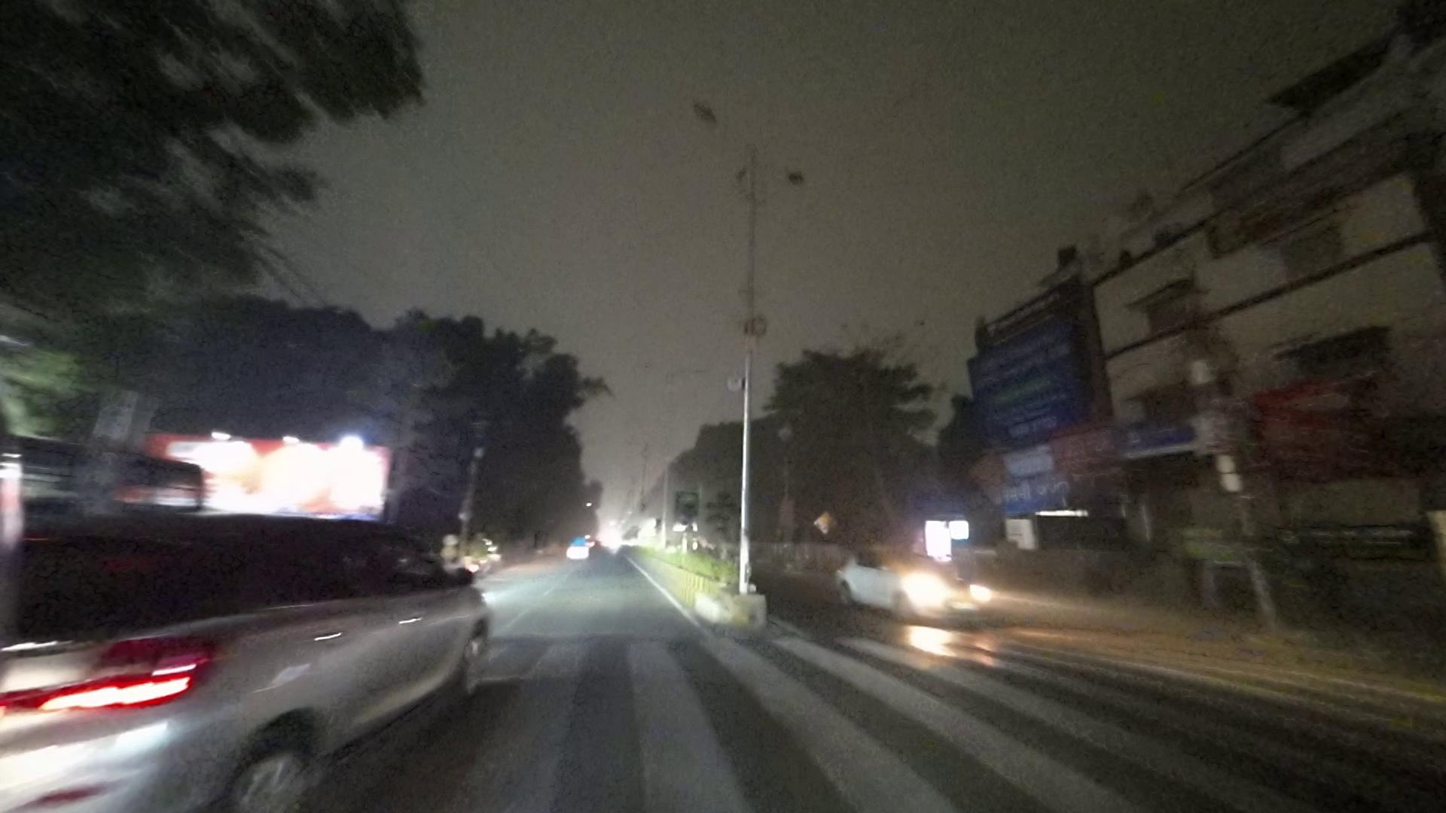streetlight: (689, 98, 747, 150), (762, 155, 810, 189)
